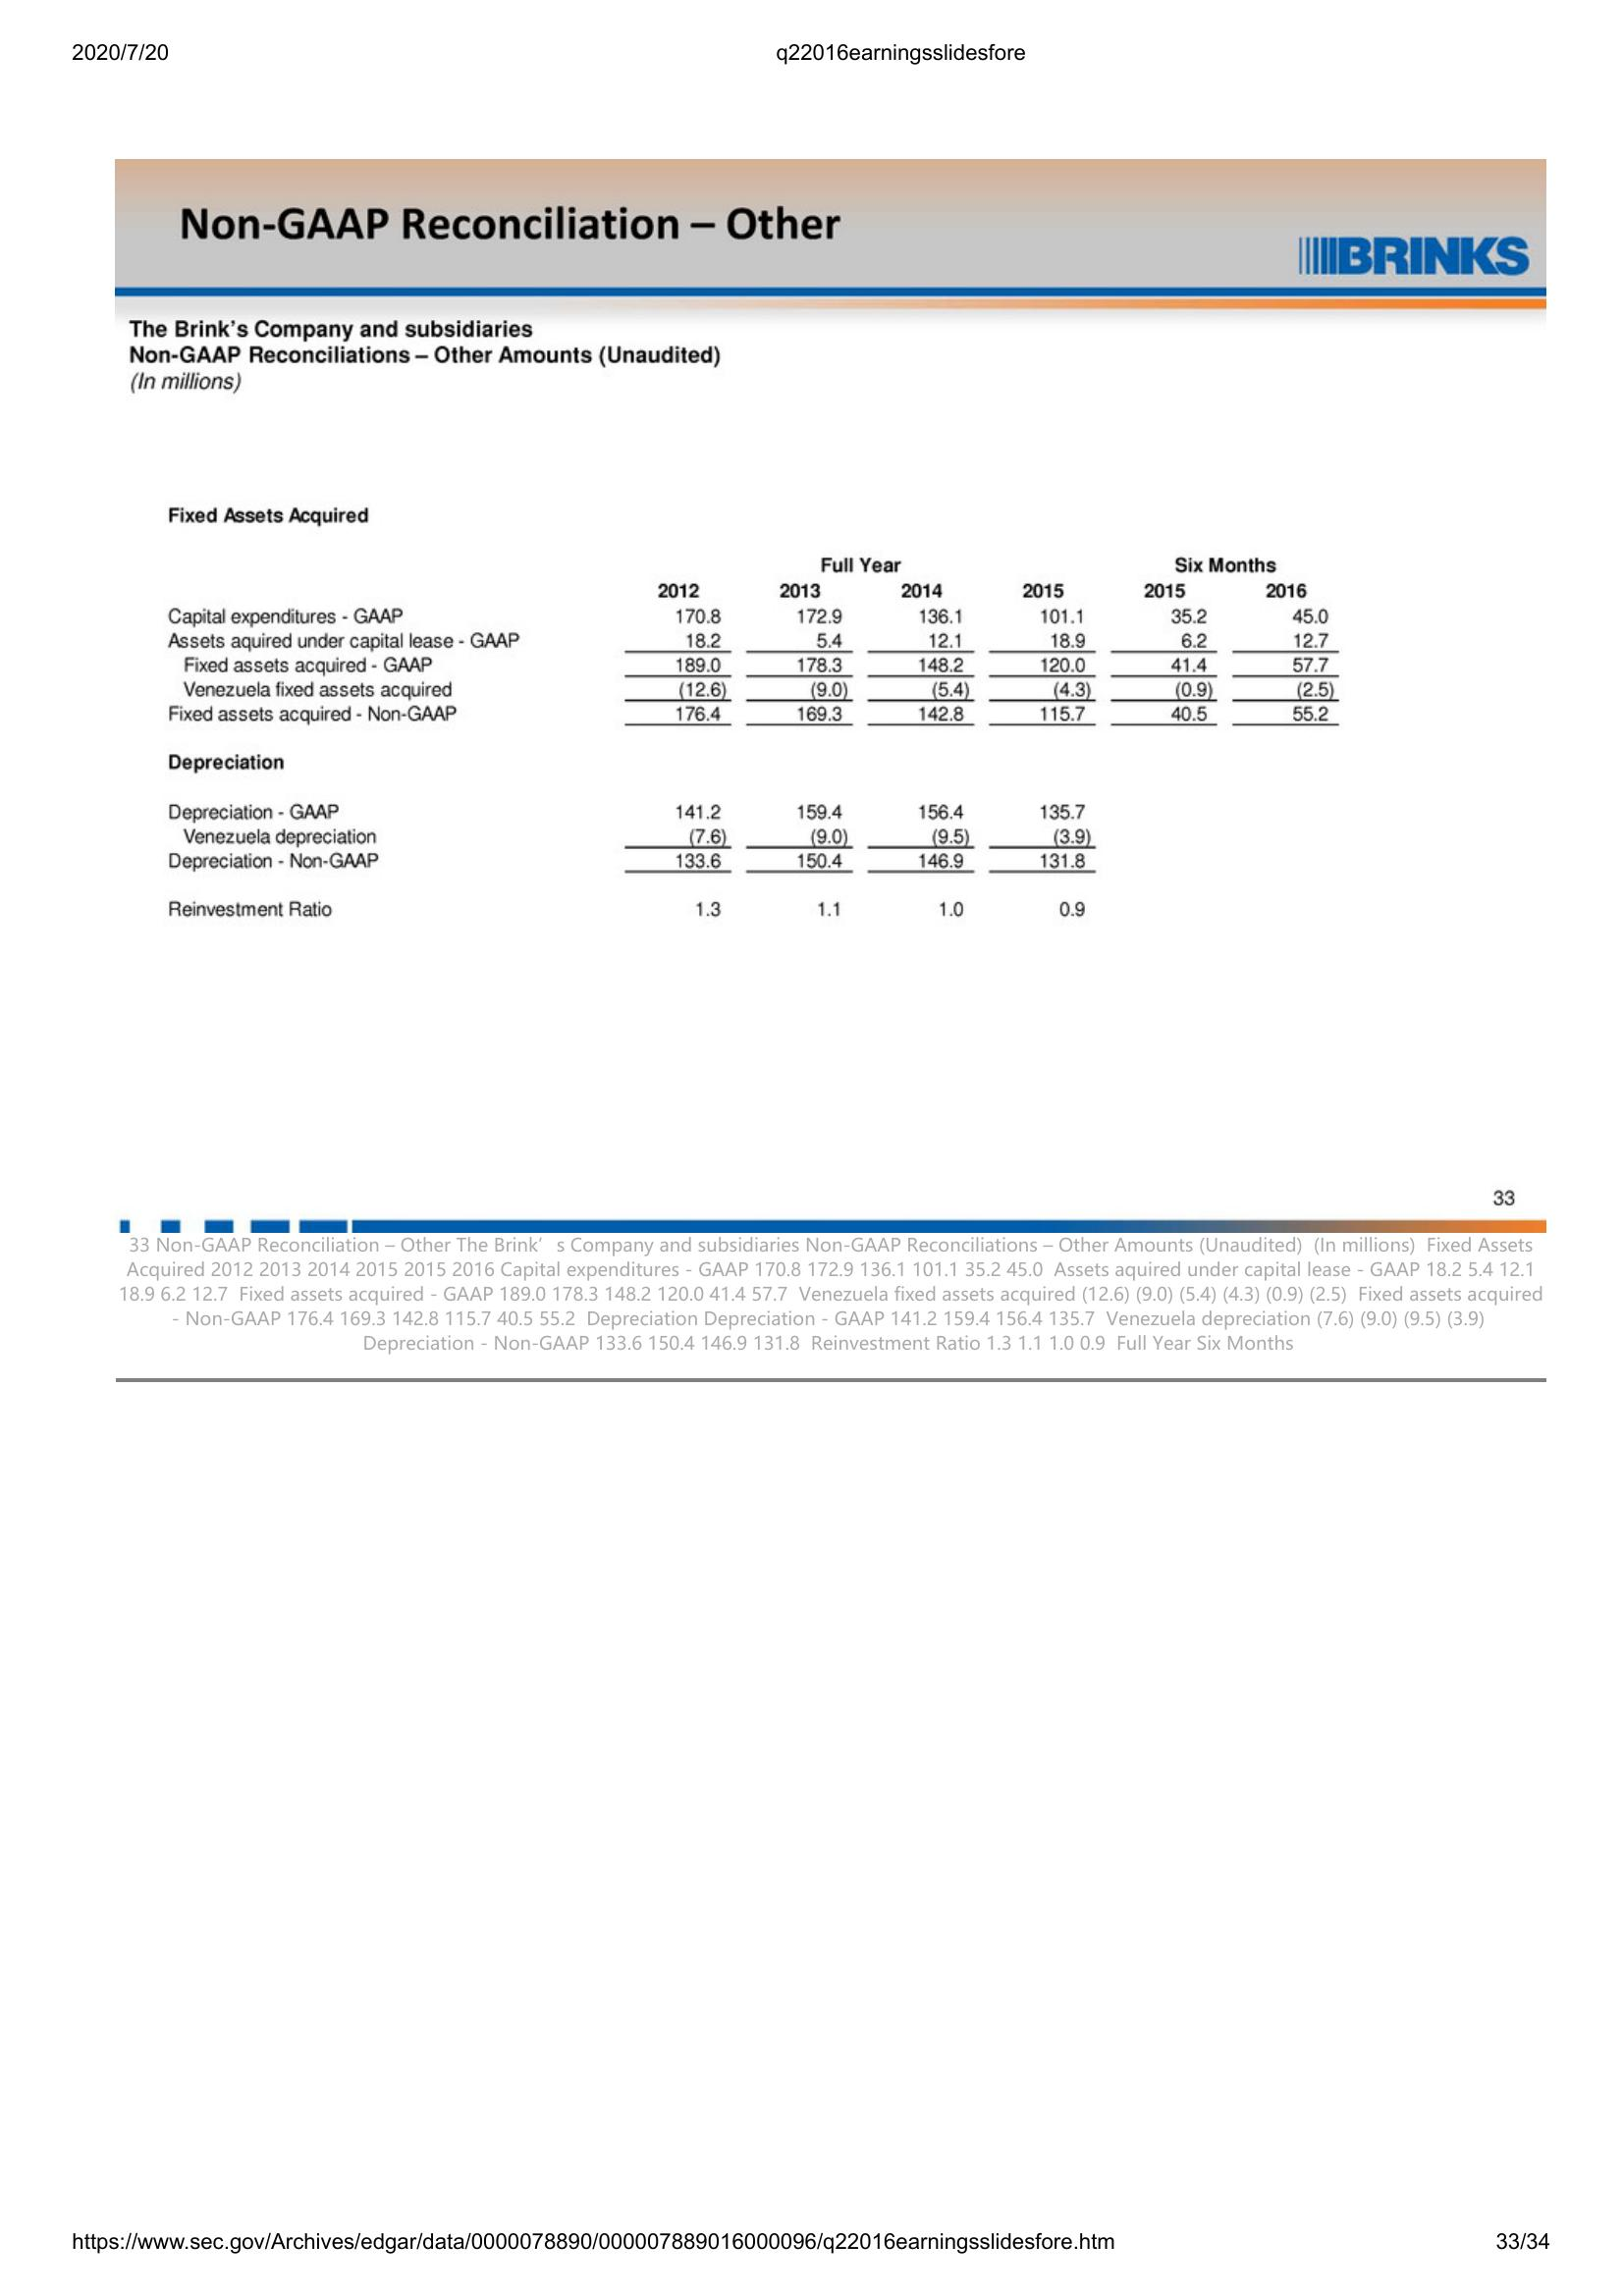table: (162, 542, 1351, 930)
